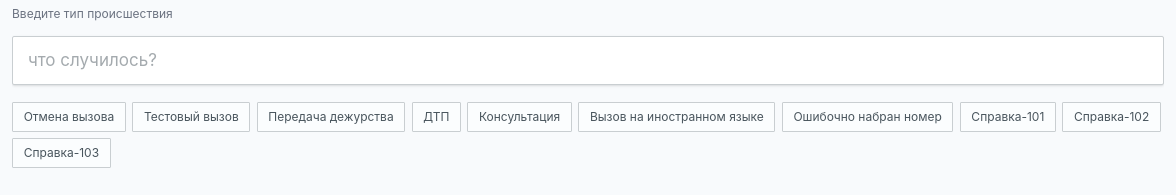
Test: IncidentClassifier Component › opens combobox dropdown on input and selects category
In the dropdown with placeholder "что случилось?": {"x": 588, "y": 61} [12,36,1164,85], type "101"
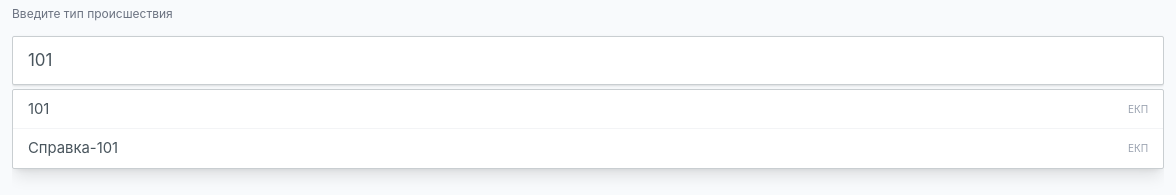
Click the button "101 ЕКП": {"x": 39, "y": 109} [13,90,1163,130]
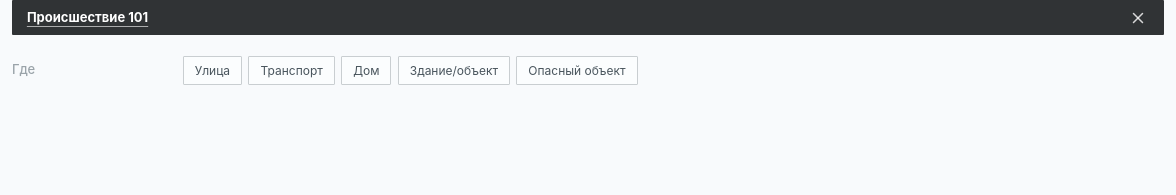
Now the button "Улица" is shown, box [183,56,242,85]
